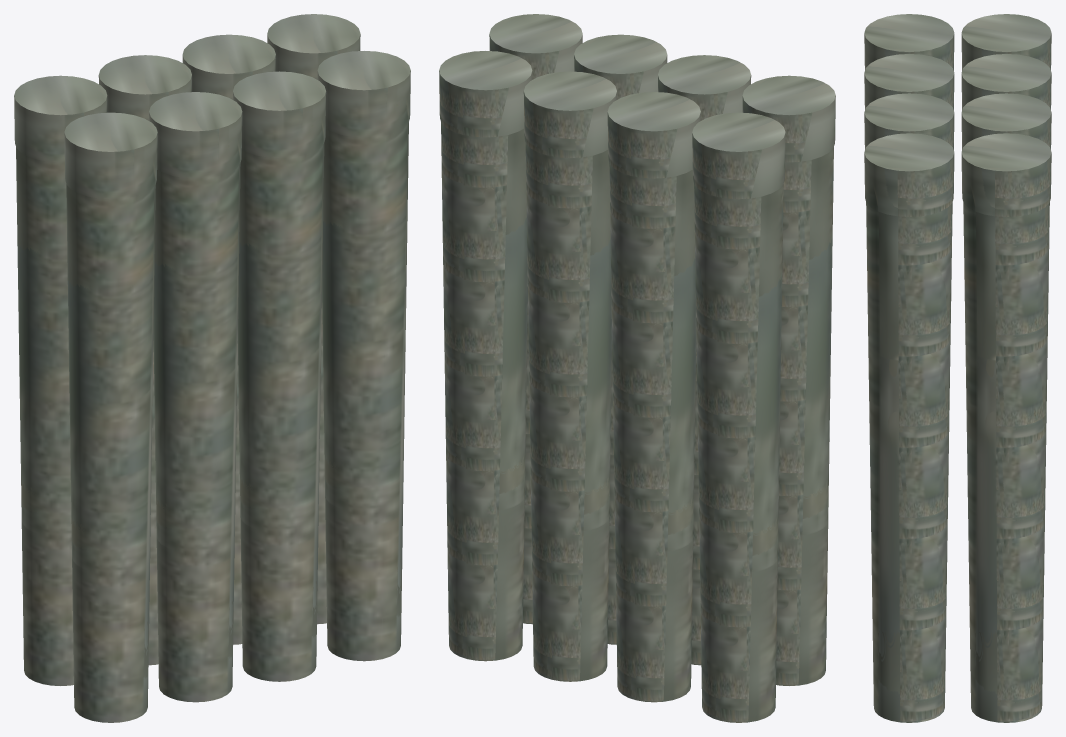
Rendered from rp-storage-1.glb.
3 renders of one model, left to right at view 1: azimuth 30°, elevation 25°; view 2: azimuth 150°, elevation 25°; view 3: azimuth 270°, elevation 25°, orthographic. The views are drawn at different scales.
Visible parts, largest first — view 1: rouchpack-single-joint.001_rouchpack-single-joint.002, rouchpack-single-joint.004_rouchpack-single-joint.005, rouchpack-single-joint.005_rouchpack-single-joint.006, rouchpack-single-joint.008_rouchpack-single-joint.009, rouchpack-single-joint.002_rouchpack-single-joint.003, rouchpack-single-joint.006_rouchpack-single-joint.007, rouchpack-single-joint.003_rouchpack-single-joint.004, rouchpack-single-joint.007_rouchpack-single-joint.008; view 2: rouchpack-single-joint.002_rouchpack-single-joint.003, rouchpack-single-joint.003_rouchpack-single-joint.004, rouchpack-single-joint.006_rouchpack-single-joint.007, rouchpack-single-joint.007_rouchpack-single-joint.008, rouchpack-single-joint.001_rouchpack-single-joint.002, rouchpack-single-joint.005_rouchpack-single-joint.006, rouchpack-single-joint.004_rouchpack-single-joint.005, rouchpack-single-joint.008_rouchpack-single-joint.009; view 3: rouchpack-single-joint.005_rouchpack-single-joint.006, rouchpack-single-joint.006_rouchpack-single-joint.007, rouchpack-single-joint.001_rouchpack-single-joint.002, rouchpack-single-joint.002_rouchpack-single-joint.003, rouchpack-single-joint.007_rouchpack-single-joint.008, rouchpack-single-joint.008_rouchpack-single-joint.009, rouchpack-single-joint.003_rouchpack-single-joint.004, rouchpack-single-joint.004_rouchpack-single-joint.005.
Part boxes in pixels (box(x1,y1,x2,y2)): rouchpack-single-joint.001_rouchpack-single-joint.002: box(64, 112, 157, 722); rouchpack-single-joint.004_rouchpack-single-joint.005: box(149, 92, 242, 702); rouchpack-single-joint.005_rouchpack-single-joint.006: box(317, 51, 410, 661); rouchpack-single-joint.008_rouchpack-single-joint.009: box(233, 71, 326, 681); rouchpack-single-joint.002_rouchpack-single-joint.003: box(14, 75, 107, 685); rouchpack-single-joint.006_rouchpack-single-joint.007: box(267, 14, 360, 624); rouchpack-single-joint.003_rouchpack-single-joint.004: box(98, 55, 191, 665); rouchpack-single-joint.007_rouchpack-single-joint.008: box(182, 34, 275, 644); rouchpack-single-joint.002_rouchpack-single-joint.003: box(692, 112, 785, 722); rouchpack-single-joint.003_rouchpack-single-joint.004: box(607, 92, 700, 702); rouchpack-single-joint.006_rouchpack-single-joint.007: box(439, 51, 532, 661); rouchpack-single-joint.007_rouchpack-single-joint.008: box(523, 71, 616, 681); rouchpack-single-joint.001_rouchpack-single-joint.002: box(742, 75, 835, 685); rouchpack-single-joint.005_rouchpack-single-joint.006: box(489, 14, 582, 624); rouchpack-single-joint.004_rouchpack-single-joint.005: box(658, 55, 751, 665); rouchpack-single-joint.008_rouchpack-single-joint.009: box(574, 34, 667, 644); rouchpack-single-joint.005_rouchpack-single-joint.006: box(864, 133, 954, 722); rouchpack-single-joint.006_rouchpack-single-joint.007: box(961, 133, 1051, 722); rouchpack-single-joint.001_rouchpack-single-joint.002: box(864, 14, 954, 70); rouchpack-single-joint.002_rouchpack-single-joint.003: box(961, 14, 1051, 70); rouchpack-single-joint.007_rouchpack-single-joint.008: box(961, 93, 1051, 149); rouchpack-single-joint.008_rouchpack-single-joint.009: box(864, 93, 954, 149); rouchpack-single-joint.003_rouchpack-single-joint.004: box(961, 54, 1051, 109); rouchpack-single-joint.004_rouchpack-single-joint.005: box(864, 54, 954, 109).
Size of the model in its own units: 1.47 by 2.43 by 0.7415.
8 materials, 8 textured.
